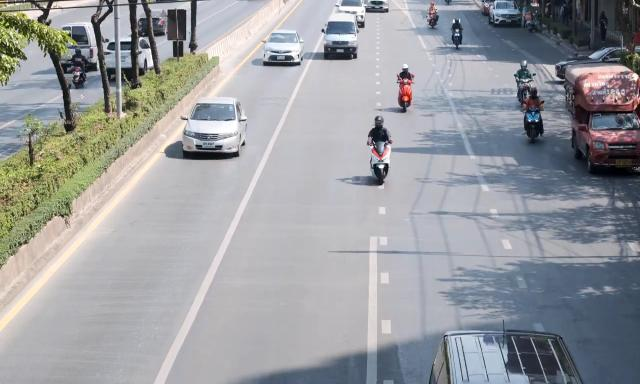carro: (425, 324, 586, 384), (179, 97, 248, 157), (555, 47, 640, 79), (102, 36, 160, 82), (320, 13, 359, 59), (261, 29, 306, 64), (138, 8, 174, 38), (336, 0, 368, 28), (489, 0, 520, 27), (364, 0, 392, 14), (481, 0, 493, 14)
moto: (367, 139, 394, 183), (523, 106, 544, 145), (514, 78, 535, 110), (396, 78, 415, 111), (72, 68, 87, 90), (450, 26, 464, 49), (425, 10, 439, 29), (526, 16, 540, 35)
van: (565, 68, 640, 176), (57, 21, 107, 72)
